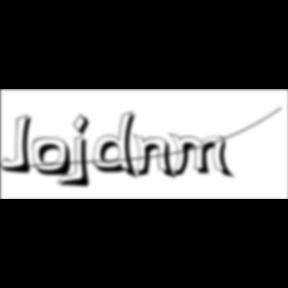J: (0, 114, 38, 176)
d: (94, 110, 144, 182)
j: (70, 113, 98, 191)
m: (169, 132, 237, 181)
n: (134, 132, 180, 181)
o: (32, 137, 74, 179)
